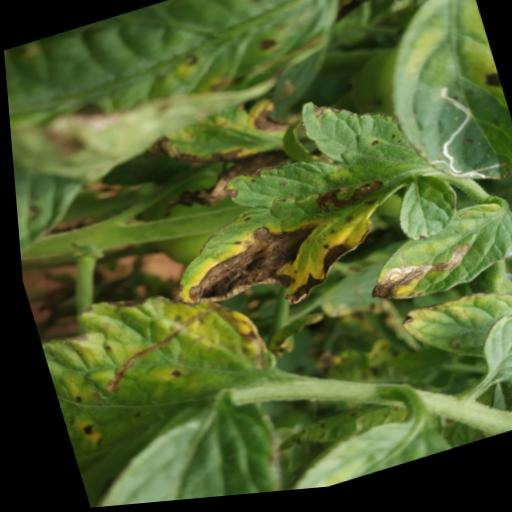Early Blight: (127, 76, 451, 343), (348, 203, 512, 321)
Leaf_Miner: (408, 70, 505, 203)
